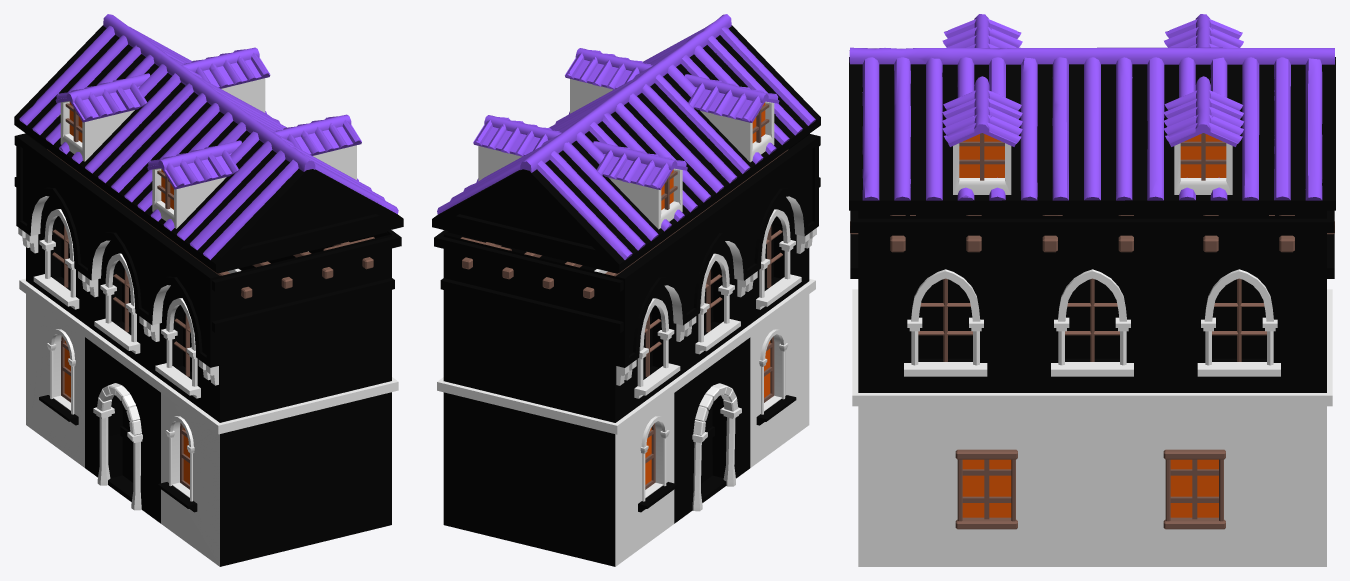
File: civilian_house_38_g.FBX
3 views of the same model, side by side, from view 1: azimuth 30°, elevation 25°; view 2: azimuth 150°, elevation 25°; view 3: azimuth 270°, elevation 25° (orthographic). The views are drawn at different scales.
Parts seen in each view (by area): view 1: civilian_house_38_g_LOD0; view 2: civilian_house_38_g_LOD0; view 3: civilian_house_38_g_LOD0.
Part boxes in pixels (box(x1,y1,x2,y2)): civilian_house_38_g_LOD0: box(14, 14, 403, 566); civilian_house_38_g_LOD0: box(432, 14, 820, 566); civilian_house_38_g_LOD0: box(849, 14, 1335, 566).
Size of what is drawn, in the model's own units: 579 by 1103 by 1039.
